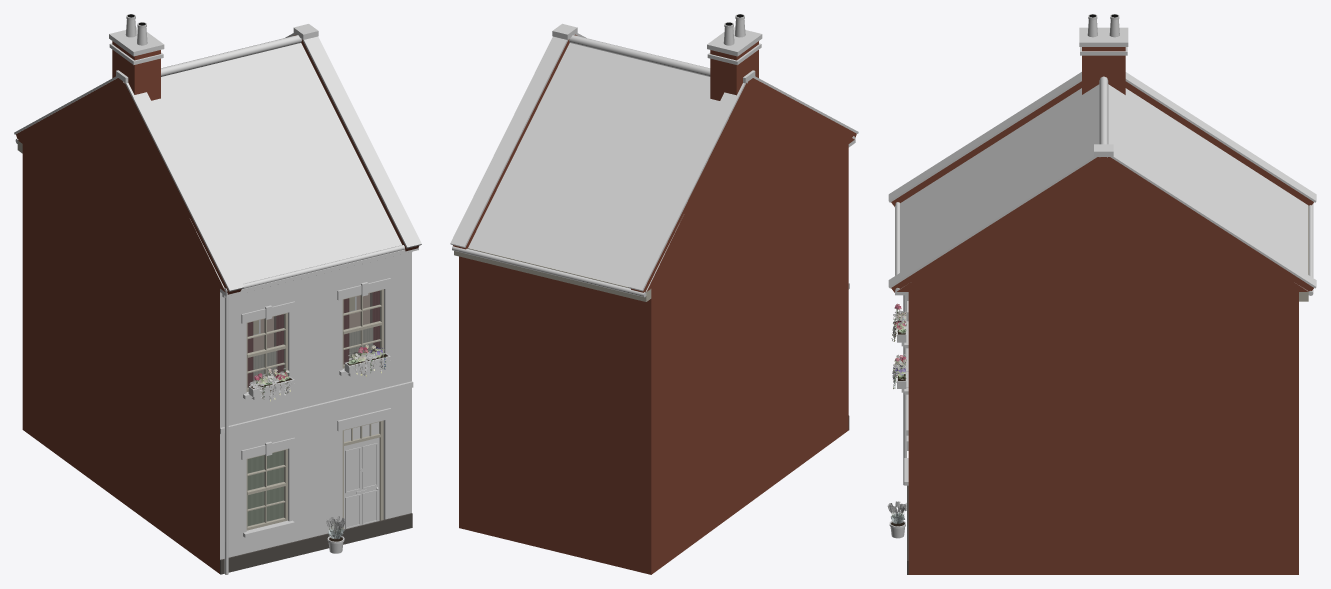
File: terrace_45.glb
3 views of the same model, side by side, from view 1: azimuth 30°, elevation 25°; view 2: azimuth 150°, elevation 25°; view 3: azimuth 270°, elevation 25° (orthographic).
Visible parts, largest first — view 1: terrace_45; view 2: terrace_45; view 3: terrace_45.
Part boxes in pixels (x1,y1,x2,y2): terrace_45: (14,14,421,574); terrace_45: (450,14,858,574); terrace_45: (887,14,1316,574).
Size of what is drawn, in the model's own units: 4.52 by 10.71 by 8.79.
